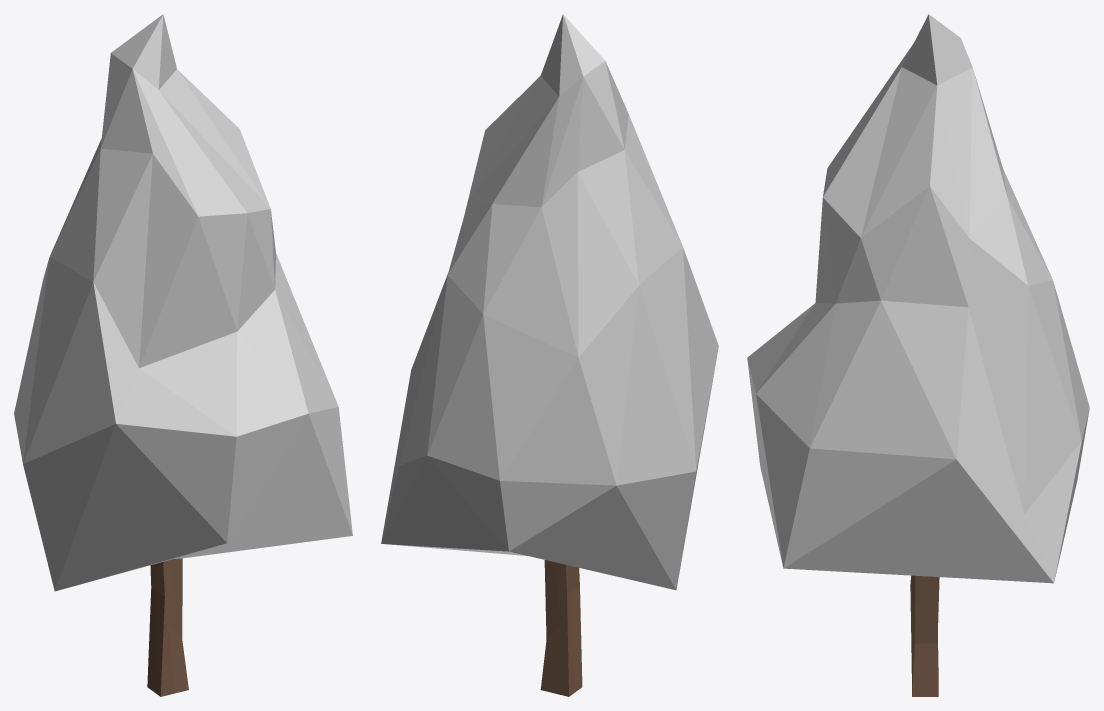
File: Tree_16_White.fbx
3 views of the same model, side by side, from view 1: azimuth 30°, elevation 25°; view 2: azimuth 150°, elevation 25°; view 3: azimuth 270°, elevation 25° (orthographic).
Parts seen in each view (by area): view 1: Tree_16_White_Part_1, Tree_16_White_Part_2; view 2: Tree_16_White_Part_1, Tree_16_White_Part_2; view 3: Tree_16_White_Part_1, Tree_16_White_Part_2.
Part boxes in pixels (x1,y1,x2,y2): Tree_16_White_Part_1: (14, 14, 352, 591); Tree_16_White_Part_2: (147, 558, 188, 696); Tree_16_White_Part_1: (381, 14, 718, 590); Tree_16_White_Part_2: (540, 560, 582, 696); Tree_16_White_Part_1: (747, 14, 1089, 583); Tree_16_White_Part_2: (910, 575, 939, 696).
Size of the model in its own units: 339 by 797 by 367.
